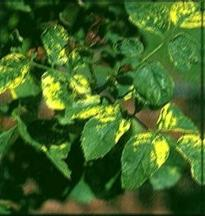Tomato leaf mosaic virus: (124, 133, 167, 193), (85, 111, 133, 163), (135, 61, 177, 105), (124, 2, 173, 36), (39, 23, 73, 68), (167, 31, 201, 73), (114, 38, 148, 59)
